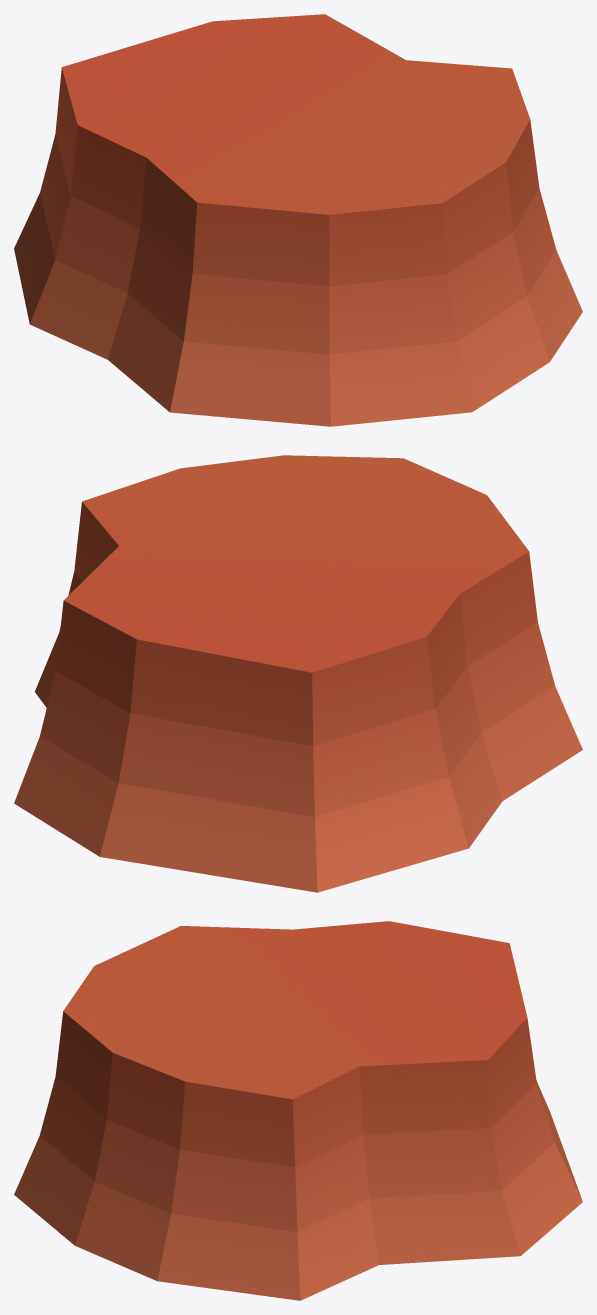
File: Red_cliff1.fbx
3 renders of one model, top to bottom at view 1: azimuth 30°, elevation 25°; view 2: azimuth 150°, elevation 25°; view 3: azimuth 270°, elevation 25°, orthographic. The views are drawn at different scales.
Visible parts, largest first — view 1: cliff1; view 2: cliff1; view 3: cliff1.
Boxes of the visible parts, x1,y1,x2,y2 form: cliff1: (14, 14, 582, 426); cliff1: (14, 455, 582, 892); cliff1: (14, 921, 582, 1300).
Size of the model in its own units: 6.22 by 2.43 by 6.85.
